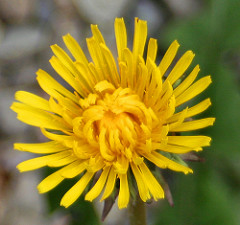dandelion: (9, 12, 222, 212)
